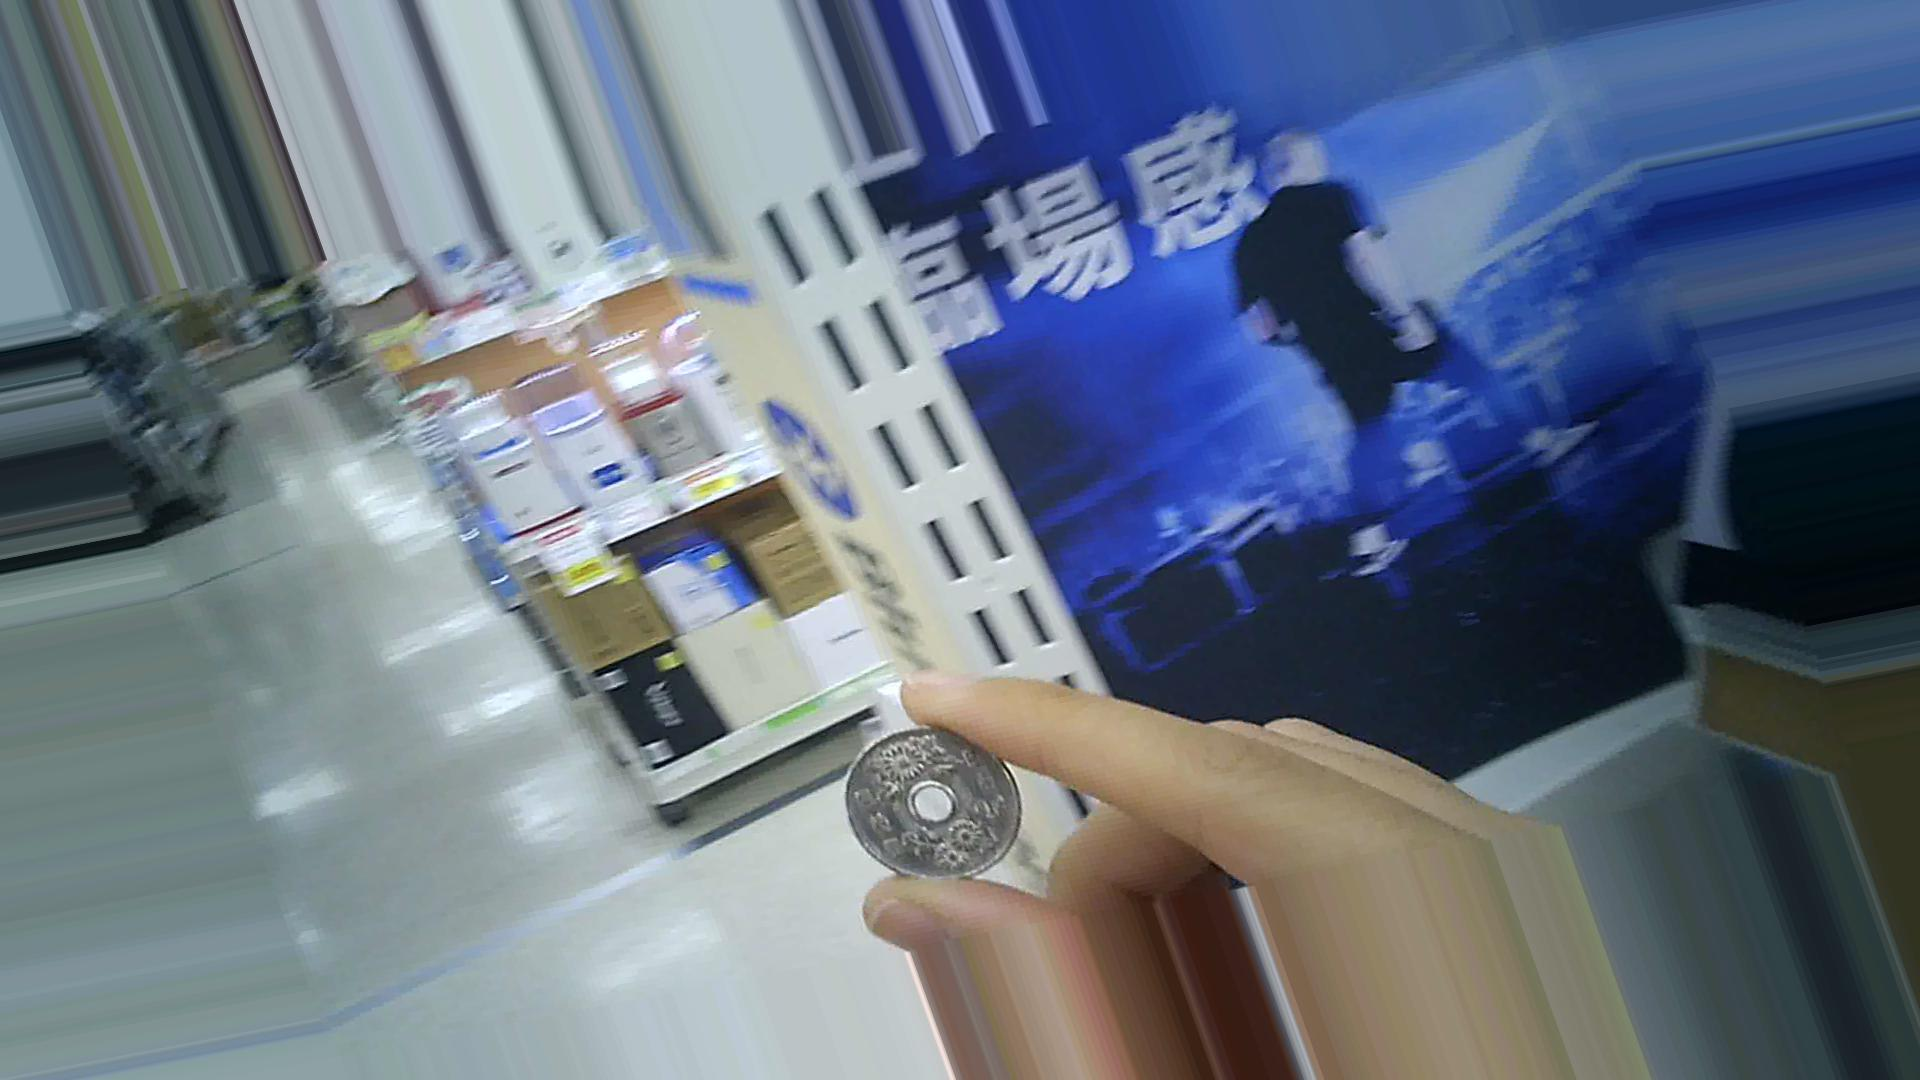50 Yen: (847, 719, 1025, 891)
